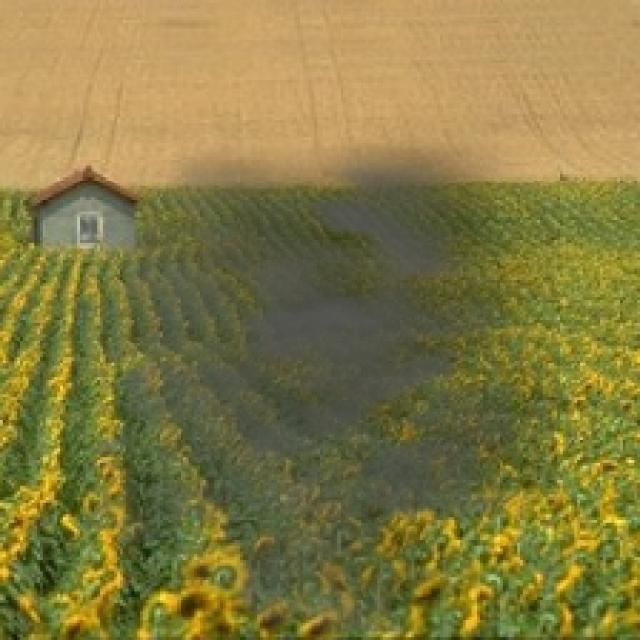smoke: (26, 114, 560, 632)
